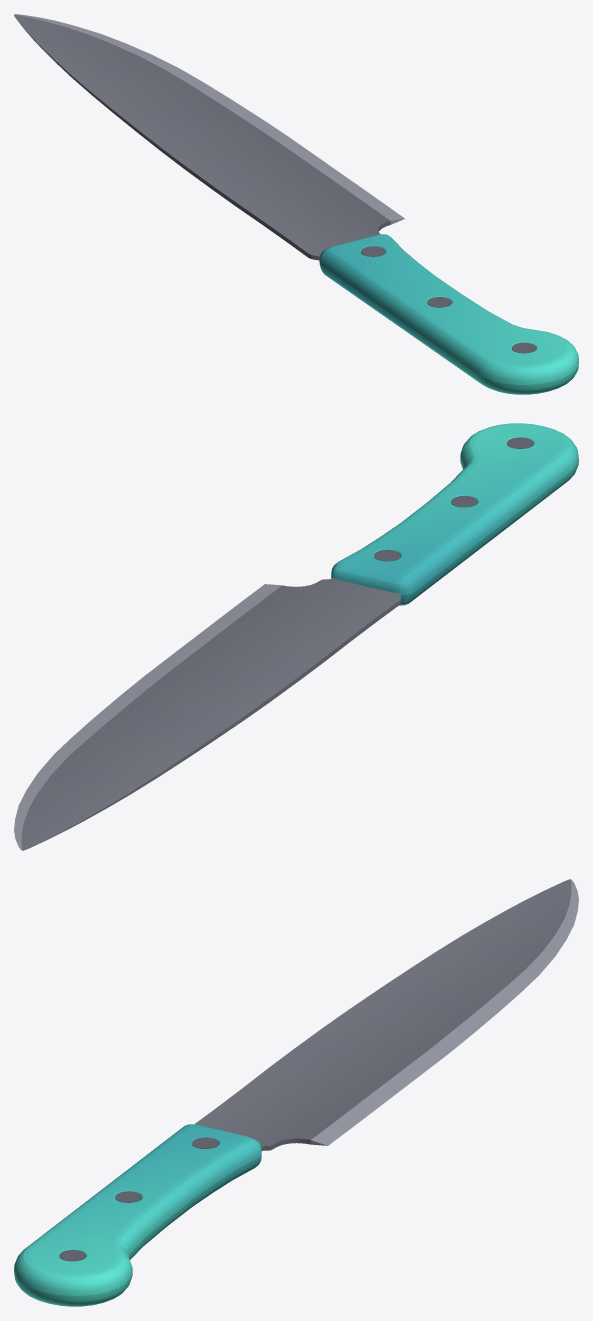
The model's file is knife_M.fbx.
The picture shows the model from 3 angles, top to bottom: view 1: azimuth 30°, elevation 25°; view 2: azimuth 150°, elevation 25°; view 3: azimuth 330°, elevation 25°; orthographic projection. The views are drawn at different scales.
Parts seen in each view (by area): view 1: knife; view 2: knife; view 3: knife.
Boxes of the visible parts, <box> form: knife: <box>14,14,578,394</box>; knife: <box>14,423,578,850</box>; knife: <box>14,879,578,1306</box>.
Bounding box in the file's own units: 28.69 × 7.15 × 225.
Materials: 1 (1 with a texture image).
